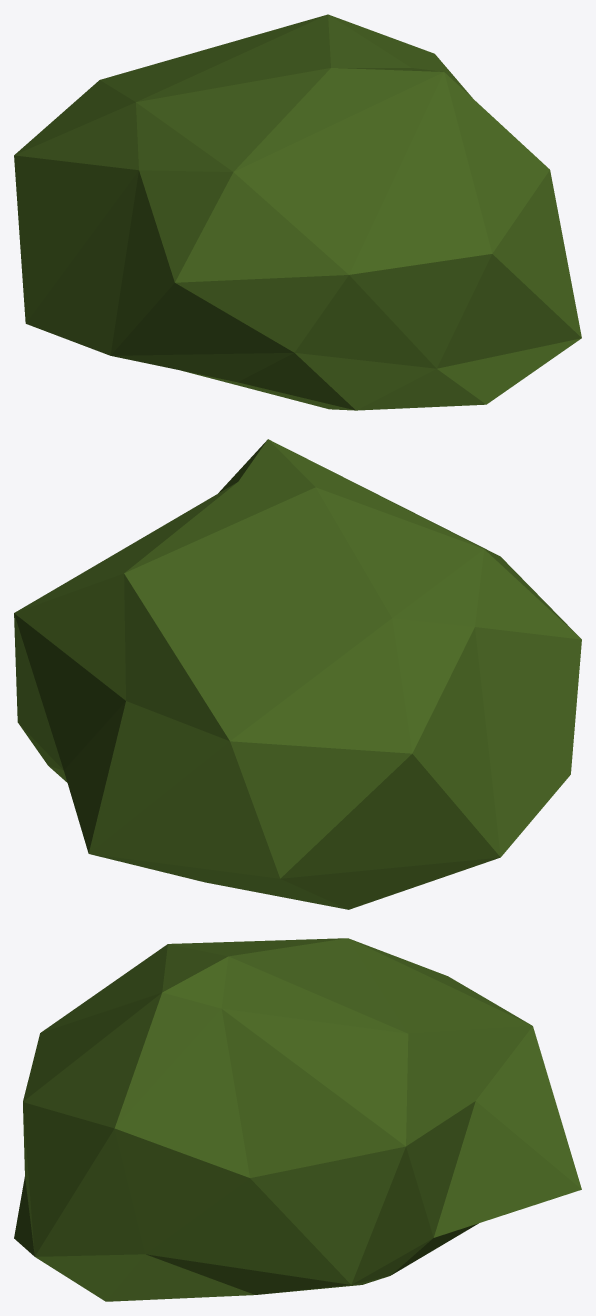
File: island_bush_3.fbx
3 renders of one model, top to bottom at view 1: azimuth 30°, elevation 25°; view 2: azimuth 150°, elevation 25°; view 3: azimuth 270°, elevation 25°, orthographic. The views are drawn at different scales.
Visible parts, largest first — view 1: Icosphere.006; view 2: Icosphere.006; view 3: Icosphere.006.
Boxes of the visible parts, x1,y1,x2,y2 form: Icosphere.006: [14, 14, 581, 410]; Icosphere.006: [14, 439, 581, 909]; Icosphere.006: [14, 938, 581, 1301].
Size of the model in its own units: 1.37 by 0.9411 by 1.5.
